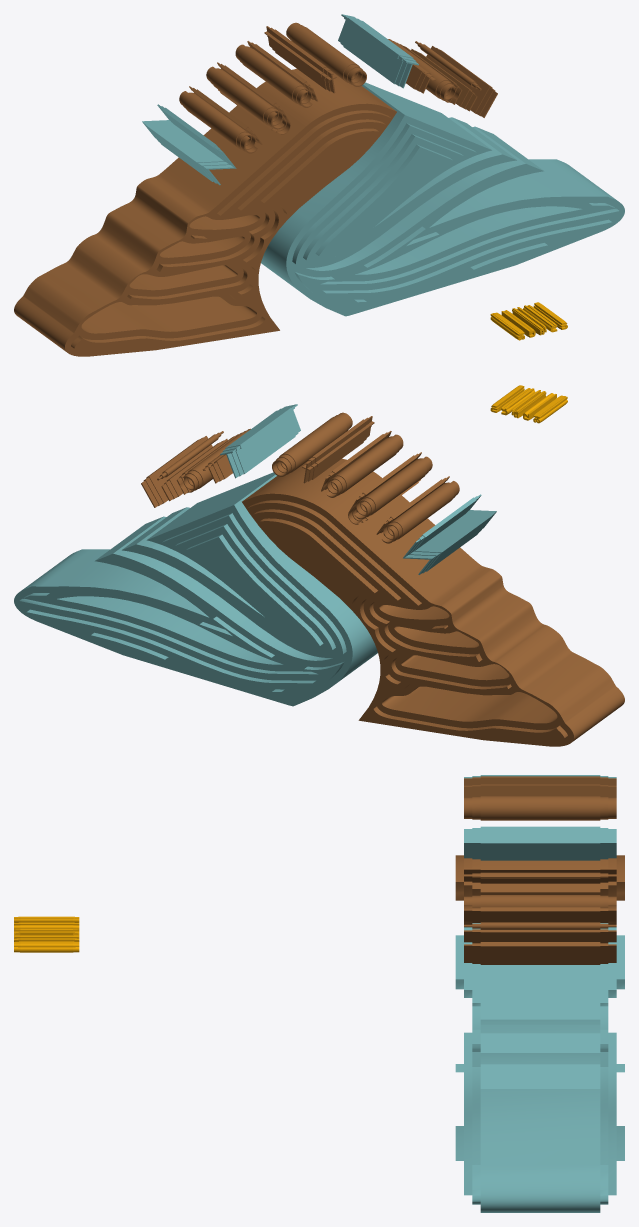
Rendered from asset.glb.
The picture shows the model from 3 angles, top to bottom: view 1: azimuth 30°, elevation 25°; view 2: azimuth 150°, elevation 25°; view 3: azimuth 270°, elevation 25°; orthographic projection. The views are drawn at different scales.
Parts seen in each view (by area): view 1: Fill.001, Fill, Fill.012, Fill.006, Fill.010, Fill.009, Fill.011, Fill.007, Fill.008, Fill.002, Fill.003, Fill.004 (+1 smaller); view 2: Fill.001, Fill, Fill.012, Fill.006, Fill.010, Fill.009, Fill.011, Fill.007, Fill.008, Fill.002, Fill.003, Fill.004 (+1 smaller); view 3: Fill, Fill.006, Fill.004, Fill.001, Fill.007, Fill.002, Fill.008, Fill.003, Fill.005, う.
Part boxes in pixels (<box>): Fill.001: <box>14,68,396,356</box>; Fill: <box>261,82,624,316</box>; Fill.012: <box>142,104,236,185</box>; Fill.006: <box>338,14,418,88</box>; Fill.010: <box>206,62,290,134</box>; Fill.009: <box>235,41,317,107</box>; Fill.011: <box>179,86,262,153</box>; Fill.007: <box>286,22,366,86</box>; Fill.008: <box>264,26,336,93</box>; Fill.002: <box>426,46,497,117</box>; Fill.003: <box>411,41,481,111</box>; Fill.004: <box>388,39,462,104</box>; Fill.001: <box>242,458,624,746</box>; Fill: <box>14,472,377,706</box>; Fill.012: <box>403,494,496,574</box>; Fill.006: <box>220,404,300,478</box>; Fill.010: <box>348,452,432,524</box>; Fill.009: <box>321,431,403,497</box>; Fill.011: <box>376,476,459,543</box>; Fill.007: <box>272,412,352,476</box>; Fill.008: <box>302,416,374,483</box>; Fill.002: <box>141,436,212,507</box>; Fill.003: <box>157,431,227,501</box>; Fill.004: <box>176,428,250,494</box>; Fill: <box>455,923,624,1212</box>; Fill.006: <box>464,826,616,860</box>; Fill.004: <box>464,895,616,922</box>; Fill.001: <box>455,855,624,924</box>; Fill.007: <box>464,796,616,820</box>; Fill.002: <box>464,942,616,964</box>; Fill.008: <box>464,776,616,797</box>; Fill.003: <box>464,922,616,943</box>; Fill.005: <box>464,866,616,883</box>; う: <box>14,941,79,952</box>.
Size of the model in its own units: 7.28 by 3.16 by 5.85.
